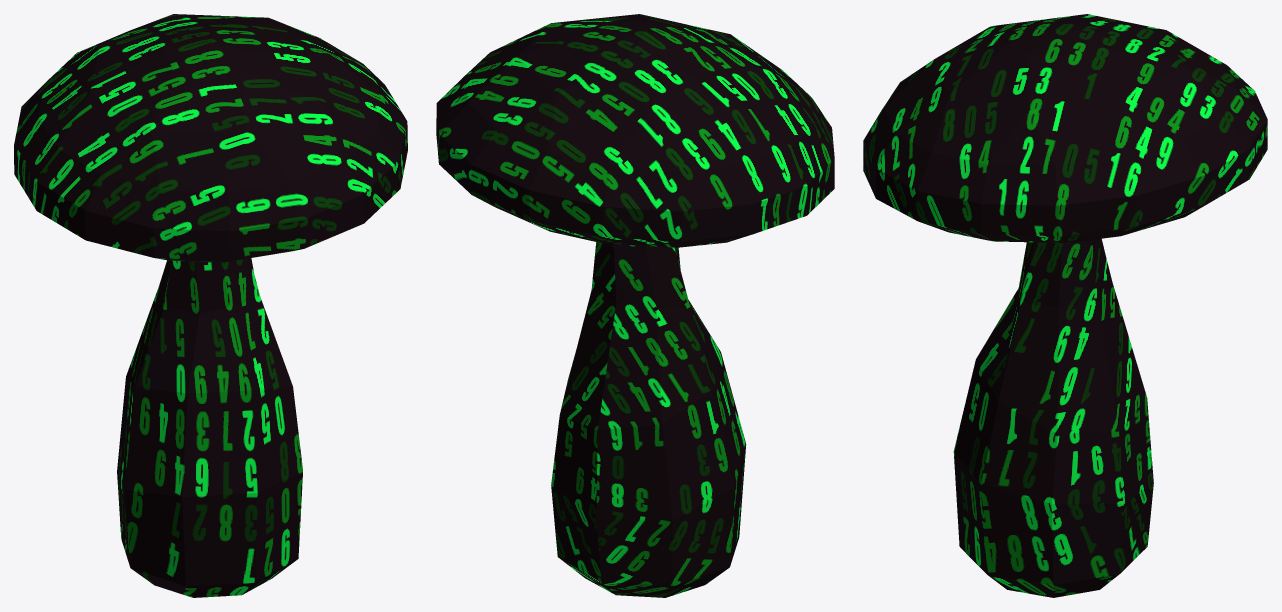
The model's file is Mushroom_Brown_code.fbx.
3 views of the same model, side by side, from view 1: azimuth 30°, elevation 25°; view 2: azimuth 150°, elevation 25°; view 3: azimuth 270°, elevation 25° (orthographic). The views are drawn at different scales.
Visible parts, largest first — view 1: Mushroom_Brown_code; view 2: Mushroom_Brown_code; view 3: Mushroom_Brown_code.
Part boxes in pixels (x1=…): Mushroom_Brown_code: x1=14, y1=14, x2=407, y2=597; Mushroom_Brown_code: x1=436, y1=14, x2=834, y2=597; Mushroom_Brown_code: x1=863, y1=14, x2=1267, y2=597.
Size of the model in its own units: 0.2069 by 0.3049 by 0.2066.
Materials: 1 (1 with a texture image).
